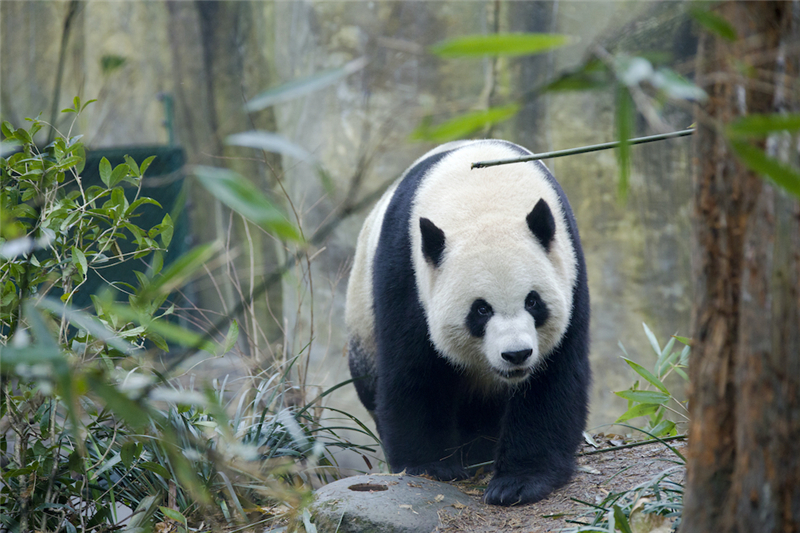panda: (341, 131, 617, 516)
